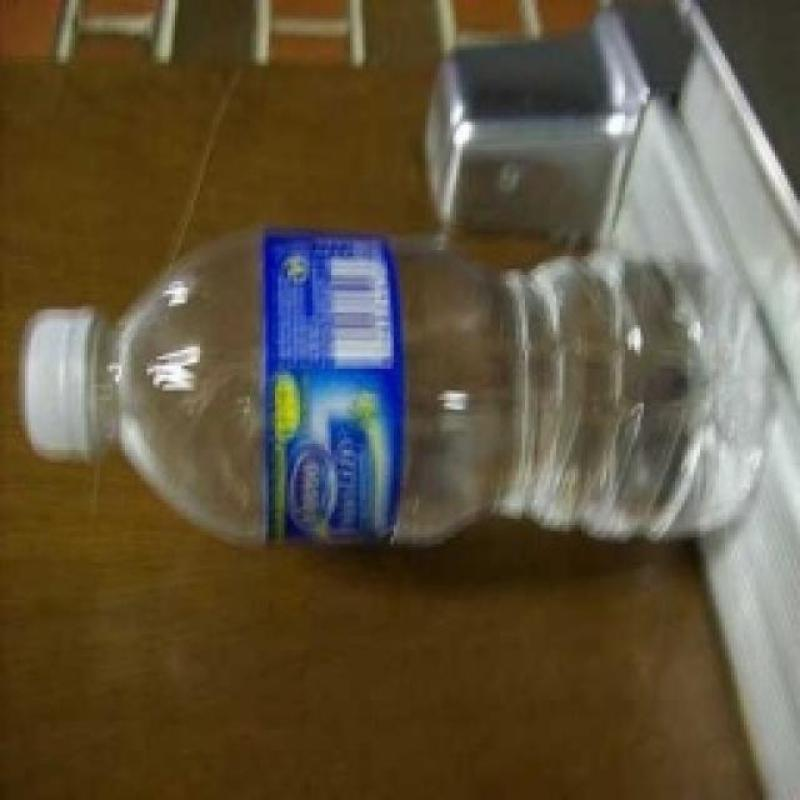botella: (19, 233, 760, 545)
